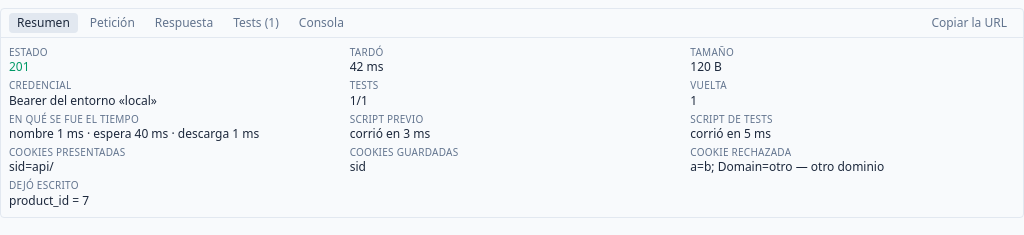
Test: una petición de la corrida, abierta › la respuesta trae su estado, sus cabeceras y su cuerpo
Click the button "Respuesta": [184, 23] box [147, 13, 221, 33]
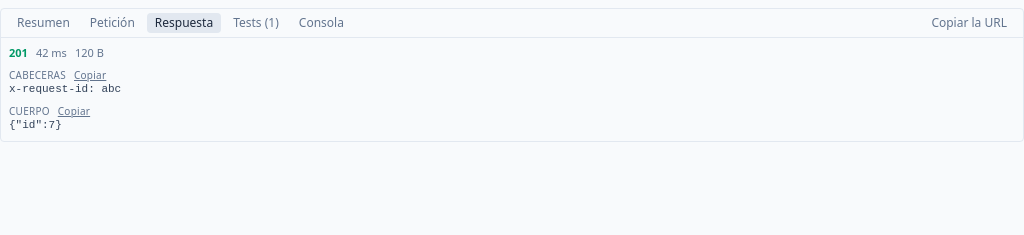
Result: the text "x-request-id: abc" is shown at [9, 83, 121, 95]
Result: the text "{\"id\":7}" is shown at [9, 119, 62, 131]
